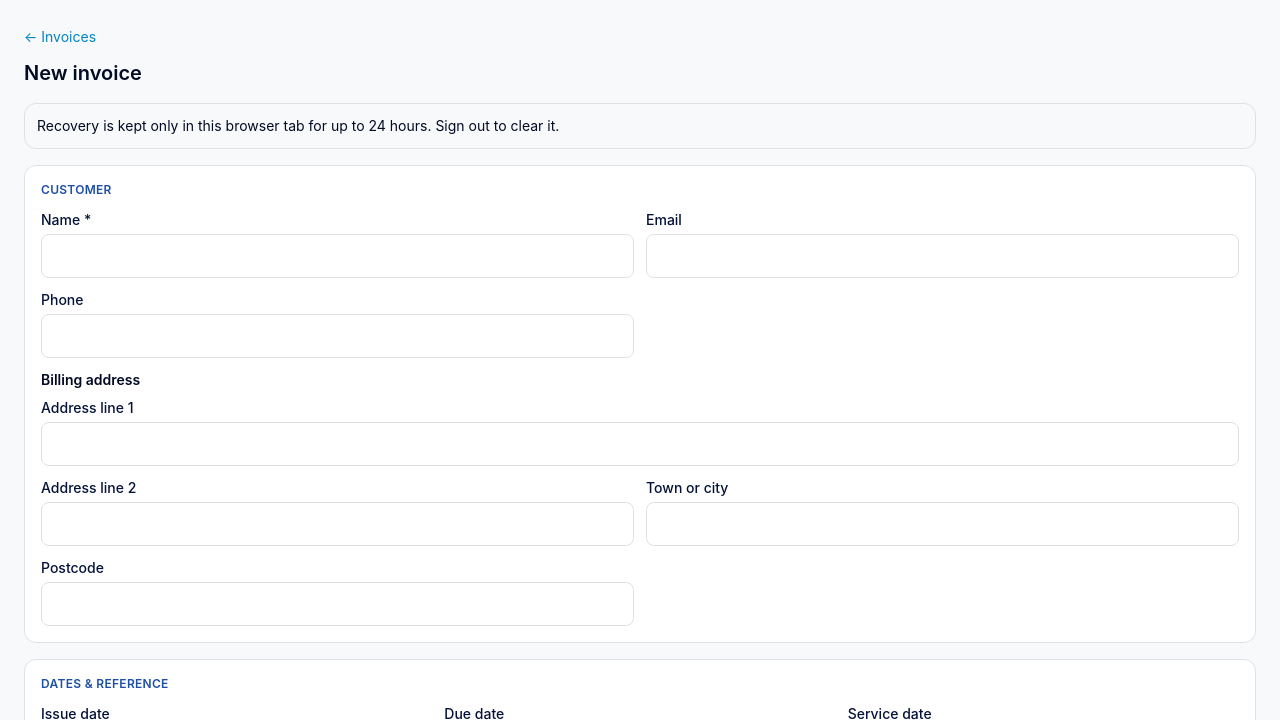
Scenario: InvoiceEditorPage › shows a validation error and does not submit when the customer has no email or phone
In the field labelled "Name *": (338, 256) [41, 234, 634, 278], type "Jane Doe"
(page scrolled)
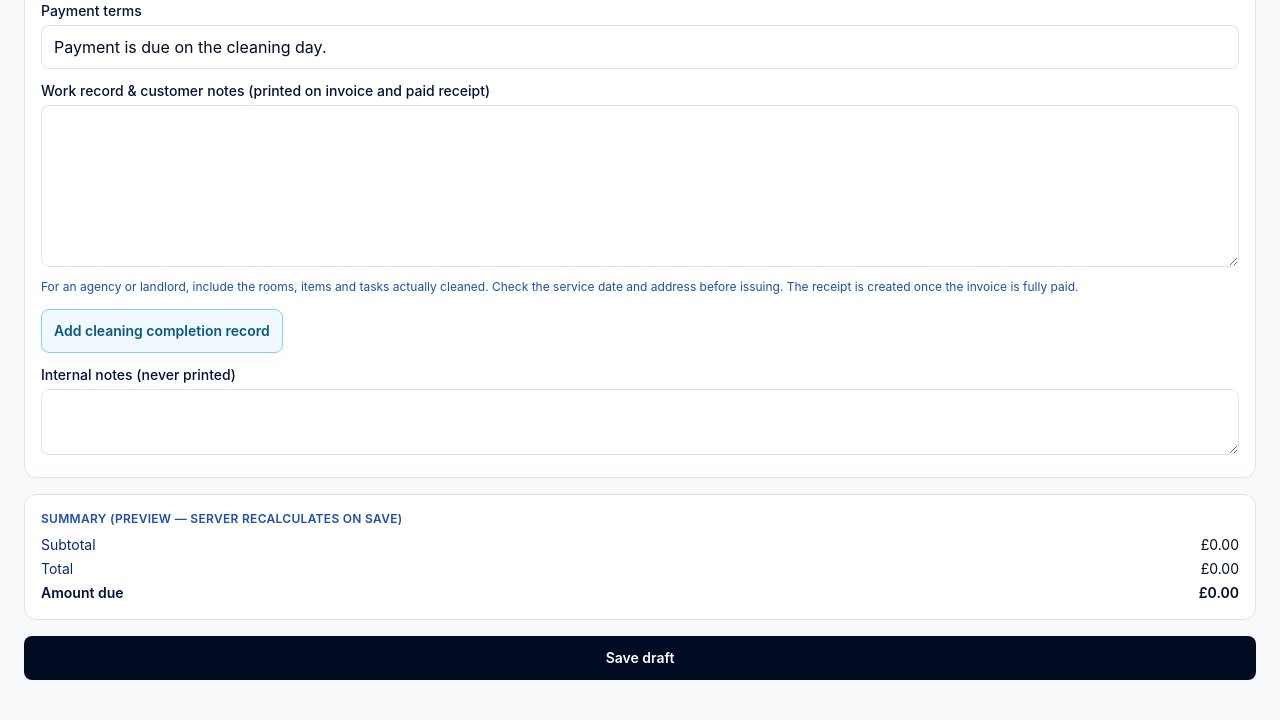
Click the button "Save draft": (640, 658) [24, 636, 1256, 680]
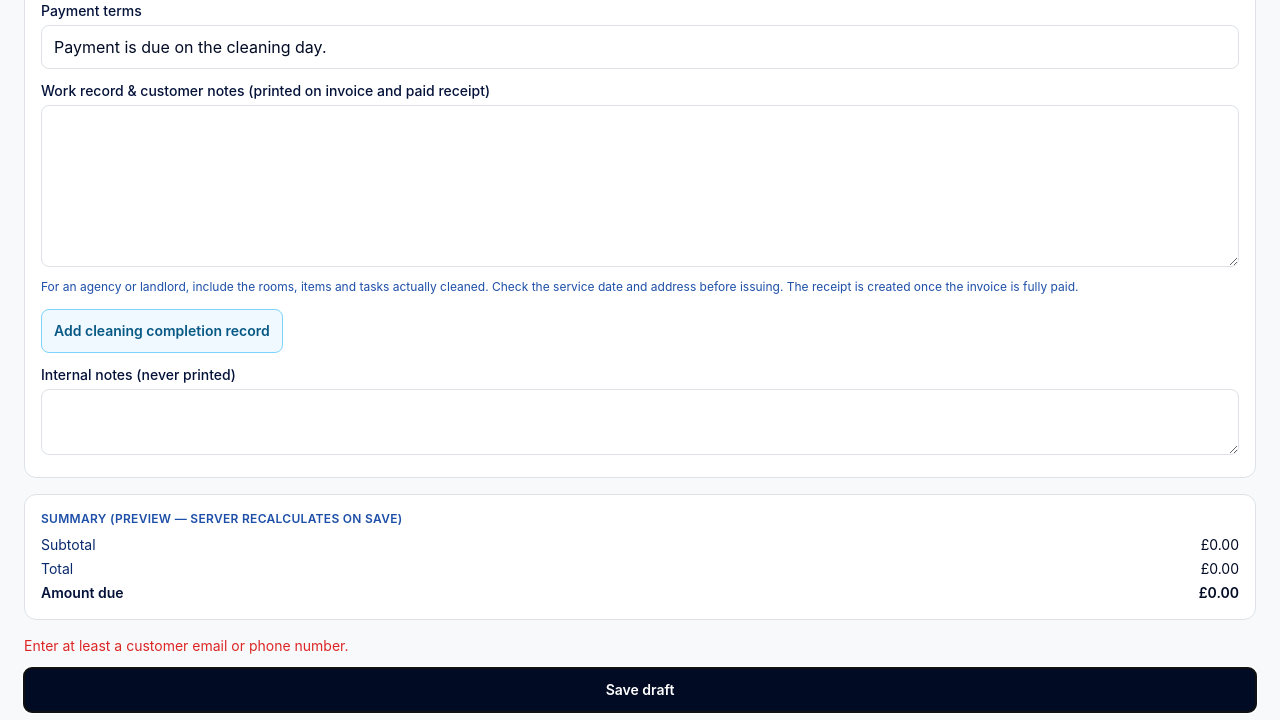
Result: the message shows "email or phone" at [24, 637, 348, 654]
